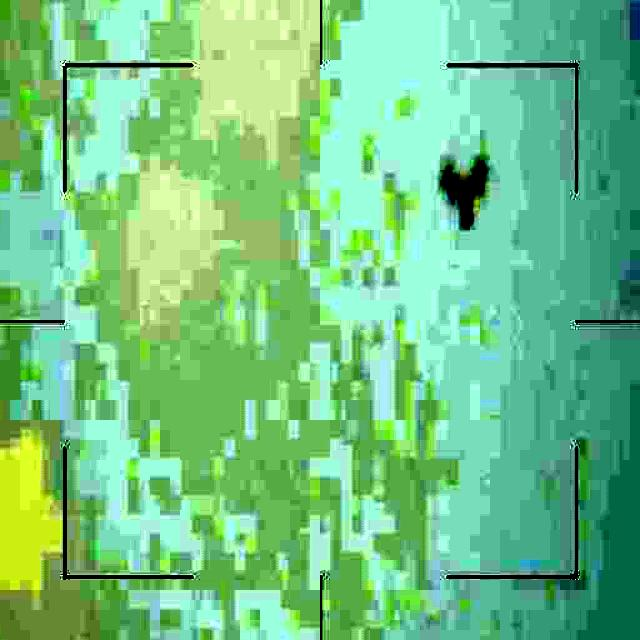bird: (448, 160, 499, 229)
